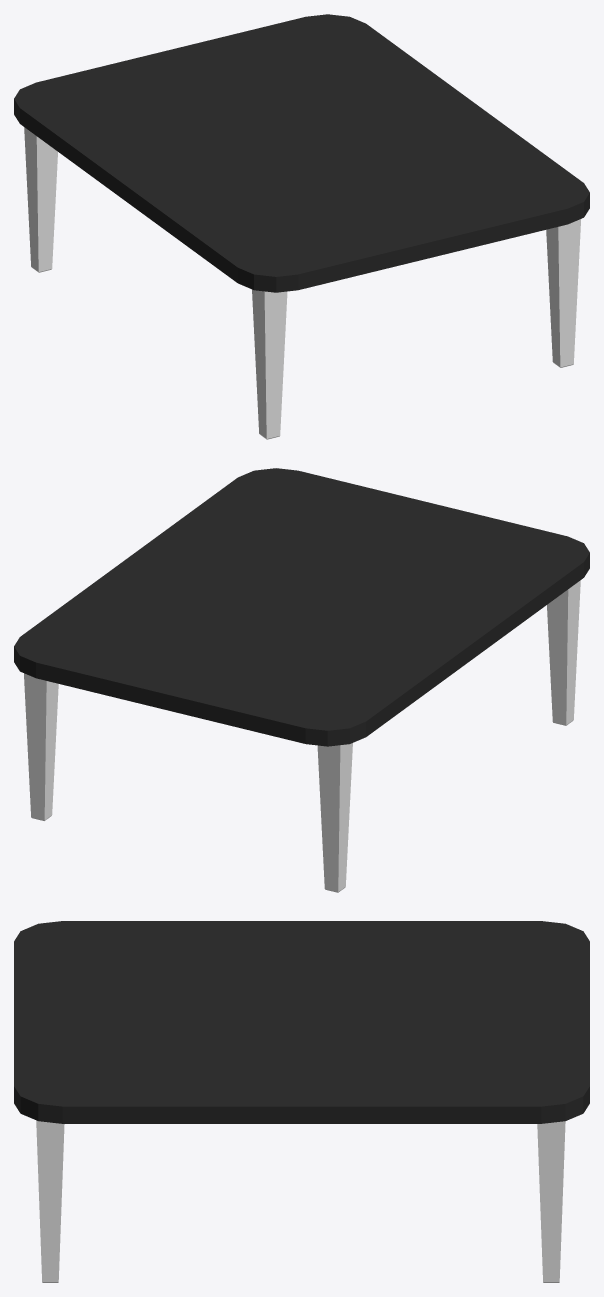
The model's file is Table_8.fbx.
The picture shows the model from 3 angles, top to bottom: view 1: azimuth 30°, elevation 25°; view 2: azimuth 150°, elevation 25°; view 3: azimuth 270°, elevation 25°; orthographic projection. The views are drawn at different scales.
Visible parts, largest first — view 1: Table_8; view 2: Table_8; view 3: Table_8.
Boxes of the visible parts, <box> form: Table_8: <box>14,14,589,439</box>; Table_8: <box>14,468,589,892</box>; Table_8: <box>14,921,589,1282</box>.
Bounding box in the file's own units: 0.9114 × 0.4293 × 1.2.
